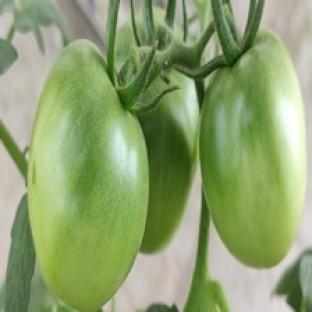Tomato: (28, 41, 149, 311), (200, 31, 306, 267), (138, 72, 199, 253)
